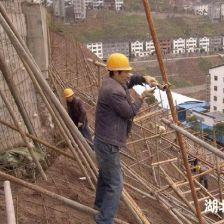helmet: (105, 51, 133, 85), (62, 86, 76, 104)
